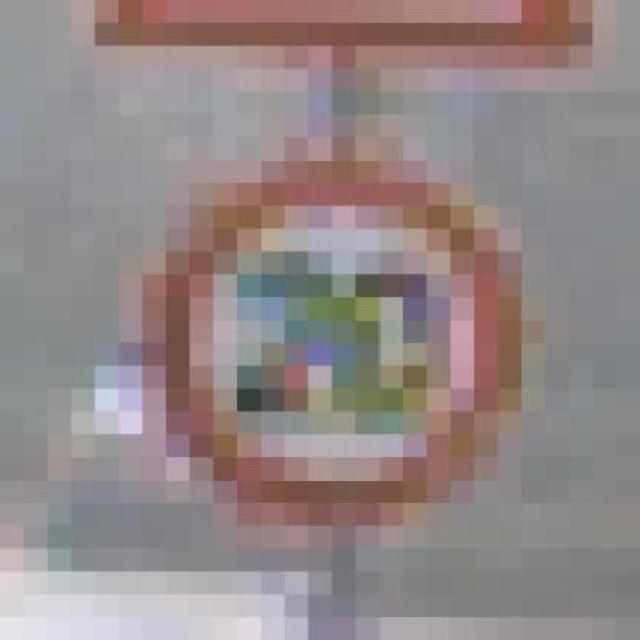Speed Limit 20 KMPh: (142, 137, 546, 526)
